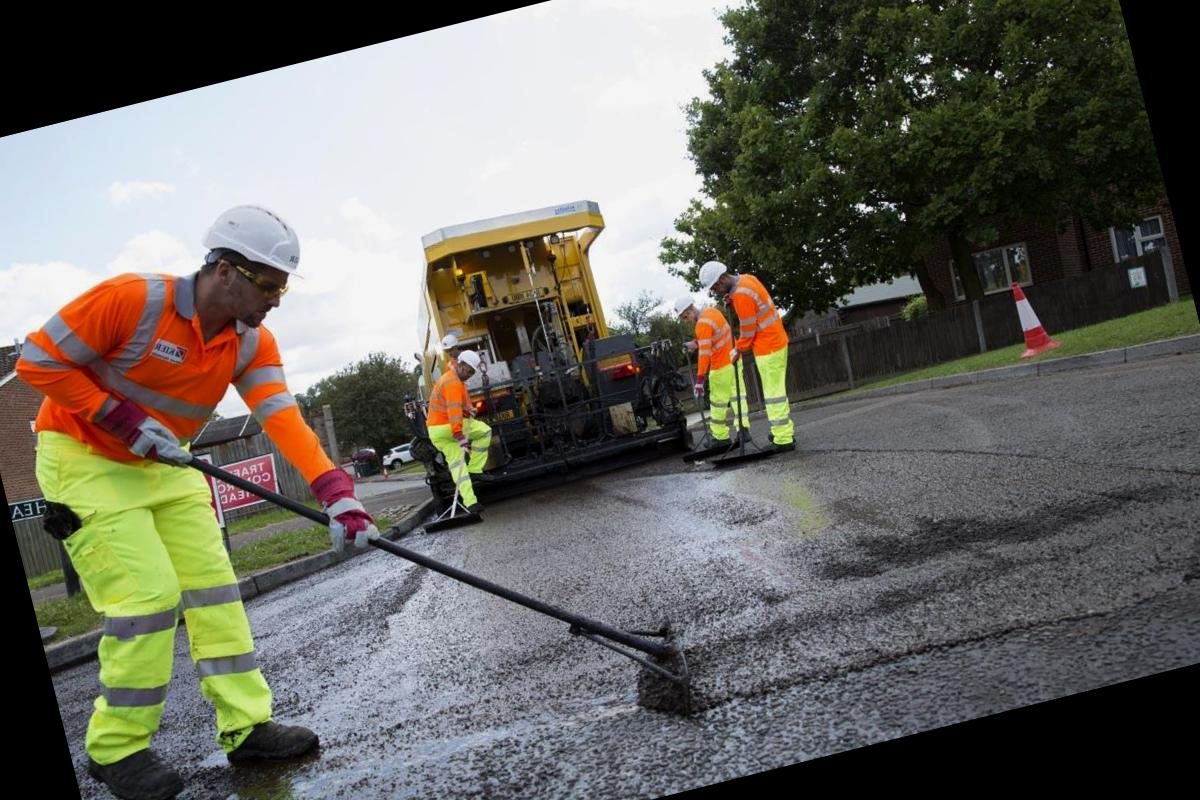helmet: (188, 188, 316, 306), (690, 253, 739, 300), (450, 344, 488, 382), (669, 290, 704, 324)
person: (0, 187, 437, 800), (692, 244, 820, 469), (412, 341, 524, 519), (666, 286, 758, 461)
